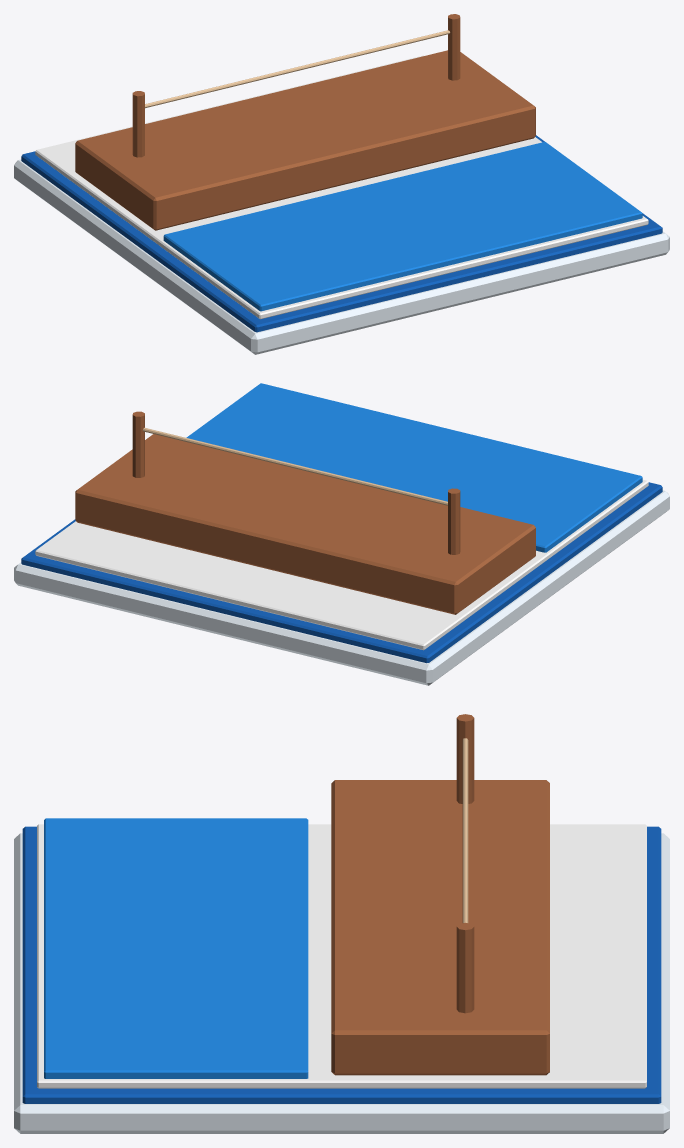
Rendered from Harbor_Stage0_v002.fbx.
3 views of the same model, one above another, from view 1: azimuth 30°, elevation 25°; view 2: azimuth 150°, elevation 25°; view 3: azimuth 270°, elevation 25° (orthographic). The views are drawn at different scales.
Parts seen in each view (by area): view 1: FixedShell; view 2: FixedShell; view 3: FixedShell.
Boxes of the visible parts, left/top/right/bottom form: FixedShell: left=14, top=14, right=669, bottom=354; FixedShell: left=14, top=383, right=669, bottom=685; FixedShell: left=14, top=714, right=669, bottom=1133.
Bounding box in the file's own units: 186 × 55 × 186.
